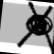not correct: (15, 0, 54, 52)
